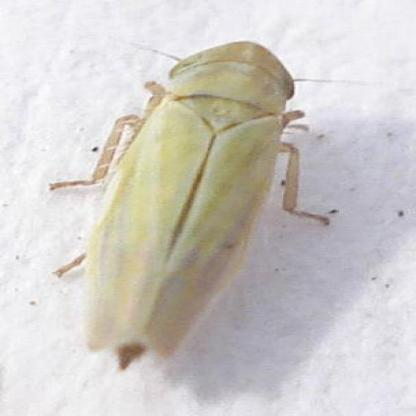green-leafhopper: (95, 36, 304, 365)
